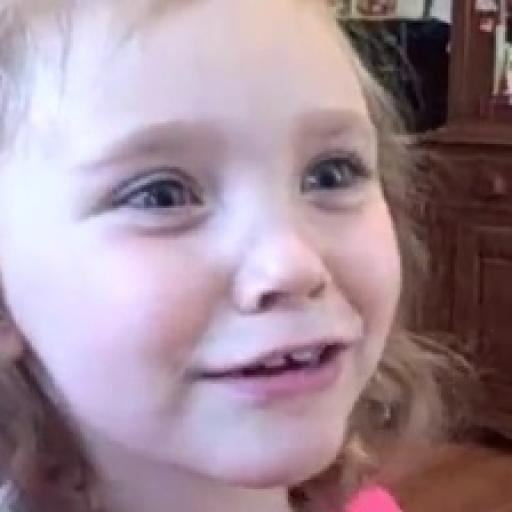Autism: (0, 0, 402, 509)
